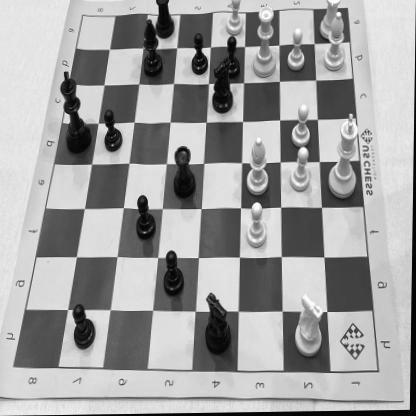black-bishop: (142, 15, 165, 81)
black-king: (56, 67, 94, 156)
black-knight: (202, 284, 236, 358), (207, 57, 240, 116)
black-pawn: (70, 299, 98, 353), (162, 246, 190, 298), (134, 190, 160, 244), (221, 34, 245, 81), (188, 31, 212, 78), (102, 106, 124, 154)
black-rook: (170, 141, 199, 202), (152, 0, 179, 42)
white-bishop: (244, 133, 276, 201), (321, 8, 350, 76)
white-king: (324, 108, 364, 206)
white-knight: (290, 286, 330, 366)
white-pawn: (286, 143, 316, 198), (283, 22, 310, 76), (244, 199, 270, 254), (289, 101, 315, 155), (223, 0, 245, 41)
white-queen: (249, 2, 281, 84)
white-rook: (315, 0, 344, 44)
